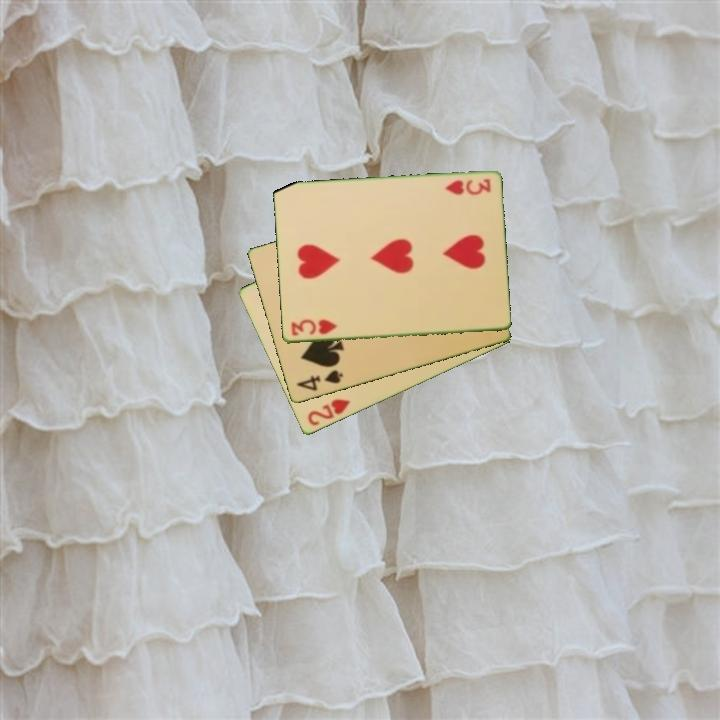2h: (304, 396, 353, 429)
3h: (287, 316, 339, 339), (441, 176, 493, 198)
4s: (293, 367, 346, 394)
